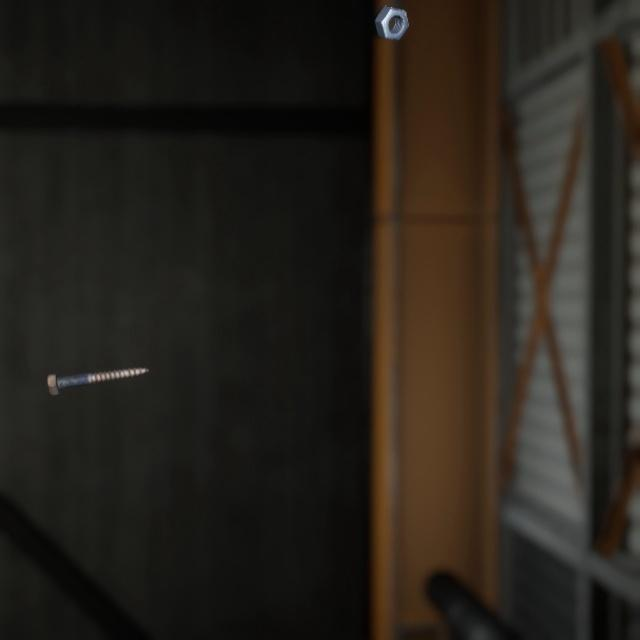bolt: (42, 343, 153, 381)
nut: (370, 0, 413, 37)
